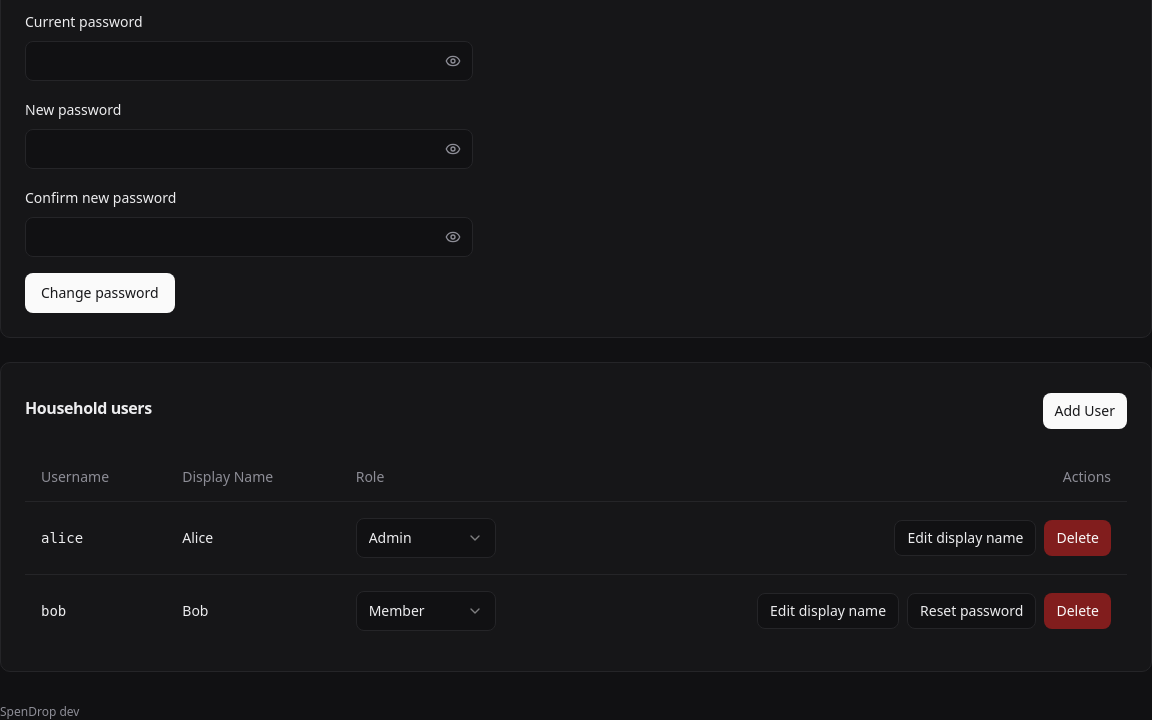
Settings › as admin › display name editor › keeps the third person on somebody else's row
The image size is (1152, 720).
(page scrolled)
Click the button with aria-label "Edit display name for bob" at (828, 610), box [757,592,899,628]
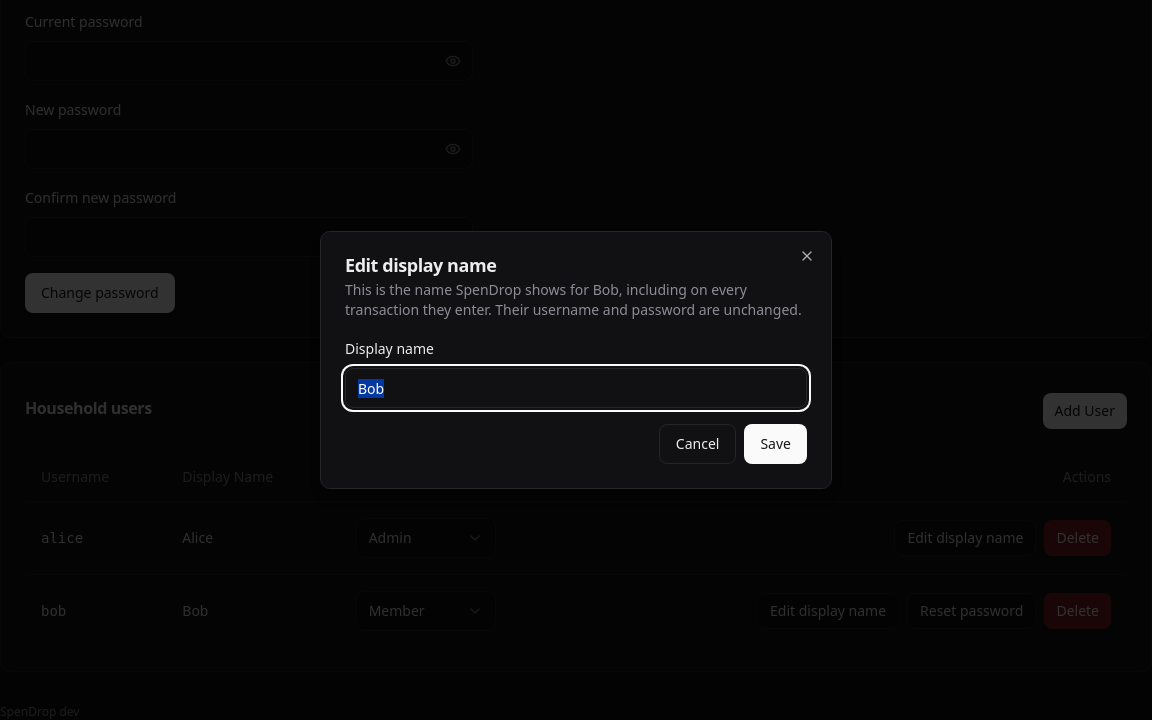
expect the text "every transaction they enter" is shown: met, box [345,280,802,319]
